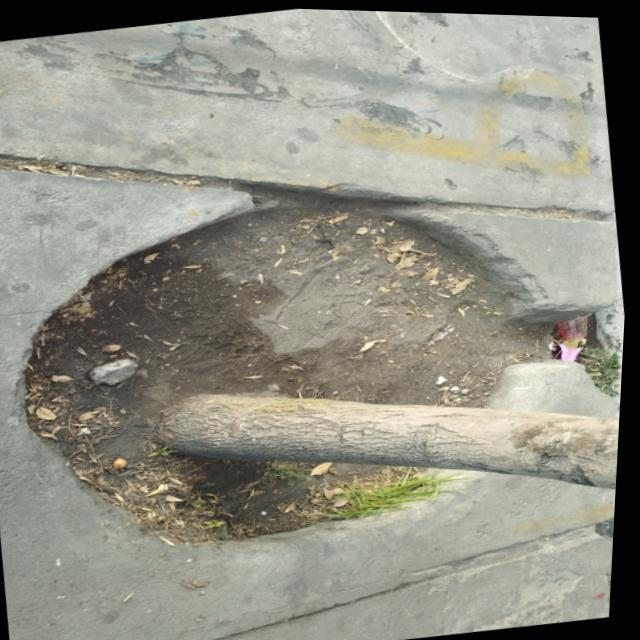hole: (14, 196, 513, 544), (422, 258, 612, 390)
